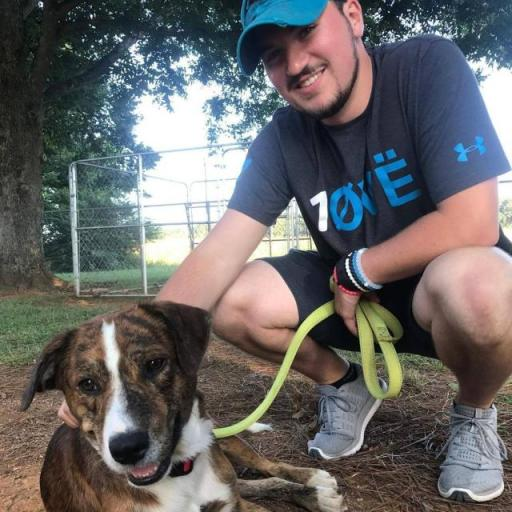Under Armour: (450, 136, 486, 165)
